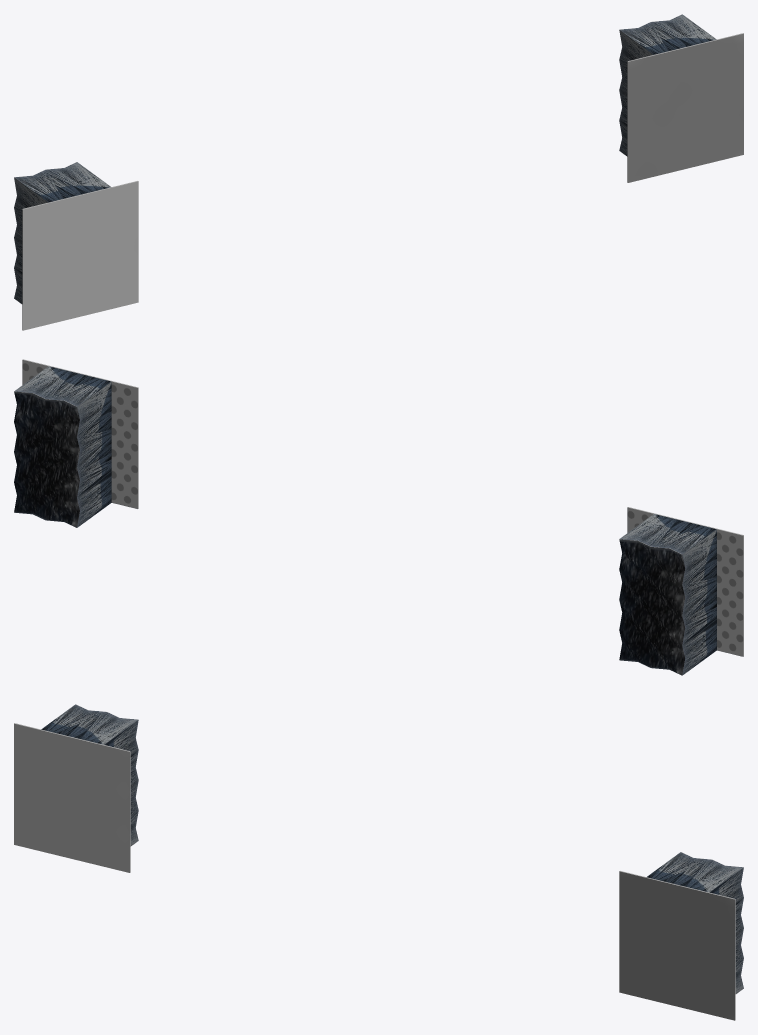
File: brushes.obj
The picture shows the model from 3 angles, top to bottom: view 1: azimuth 30°, elevation 25°; view 2: azimuth 150°, elevation 25°; view 3: azimuth 330°, elevation 25°; orthographic projection.
Parts seen in each view (by area): view 1: brush_tape001; view 2: brush_tape001; view 3: brush_tape001.
Boxes of the visible parts, box(x1,y1,x2,y2) form: brush_tape001: box(14, 14, 743, 330); brush_tape001: box(14, 359, 743, 675); brush_tape001: box(14, 704, 743, 1020).
Size of the model in its own units: 0.056 by 0.009 by 0.00475.
